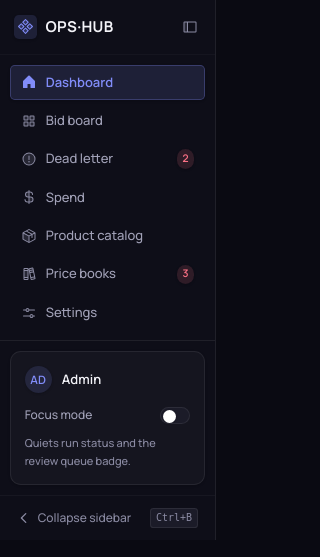
Rail (Collapsible Sidebar) › collapses when clicking the collapse button
Click the button named "Collapse sidebar".
click(190, 27)  # box [178,15,202,39]
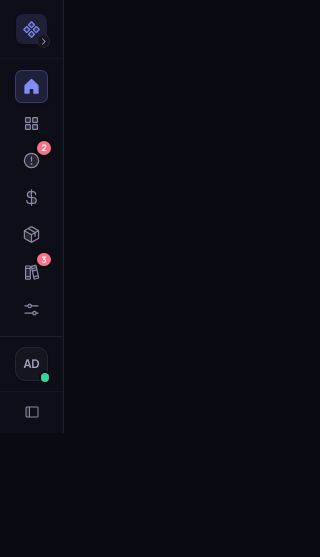
Now the link "OPS·HUB" is gone
Now the text "Dashboard" is gone
Now the 1st button named "Expand sidebar" is shown, box [16,14,47,44]
